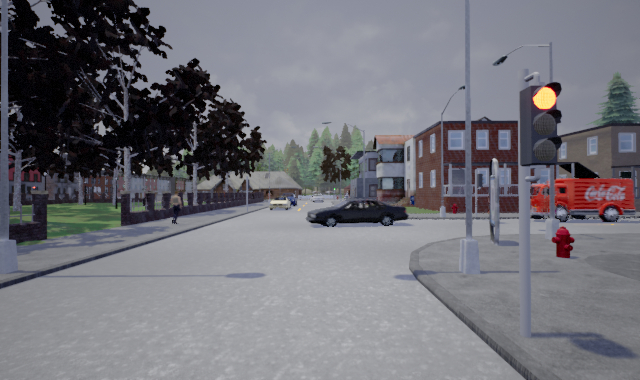pedestrian: (166, 189, 184, 224)
traffic_light: (518, 81, 563, 167)
vehicle: (517, 177, 638, 223), (304, 198, 412, 229), (269, 197, 292, 211)
